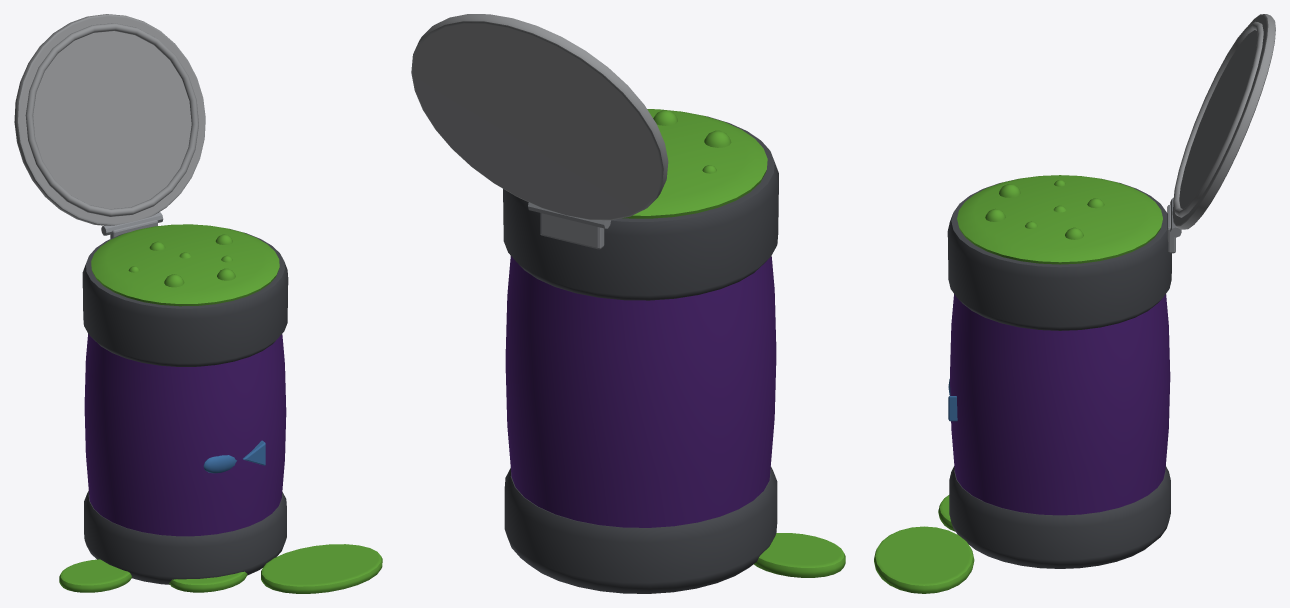
Rendered from gen_toxic_can_vertex.mobile-mid.glb.
3 views of the same model, side by side, from view 1: azimuth 30°, elevation 25°; view 2: azimuth 150°, elevation 25°; view 3: azimuth 270°, elevation 25° (orthographic). The views are drawn at different scales.
Visible parts, largest first — view 1: gen_toxic_can_vertex; view 2: gen_toxic_can_vertex; view 3: gen_toxic_can_vertex.
Boxes of the visible parts, x1,y1,x2,y2 form: gen_toxic_can_vertex: (14,14,382,593); gen_toxic_can_vertex: (411,14,845,593); gen_toxic_can_vertex: (874,14,1275,593).
Size of the model in its own units: 0.47 by 0.772 by 0.5616.
